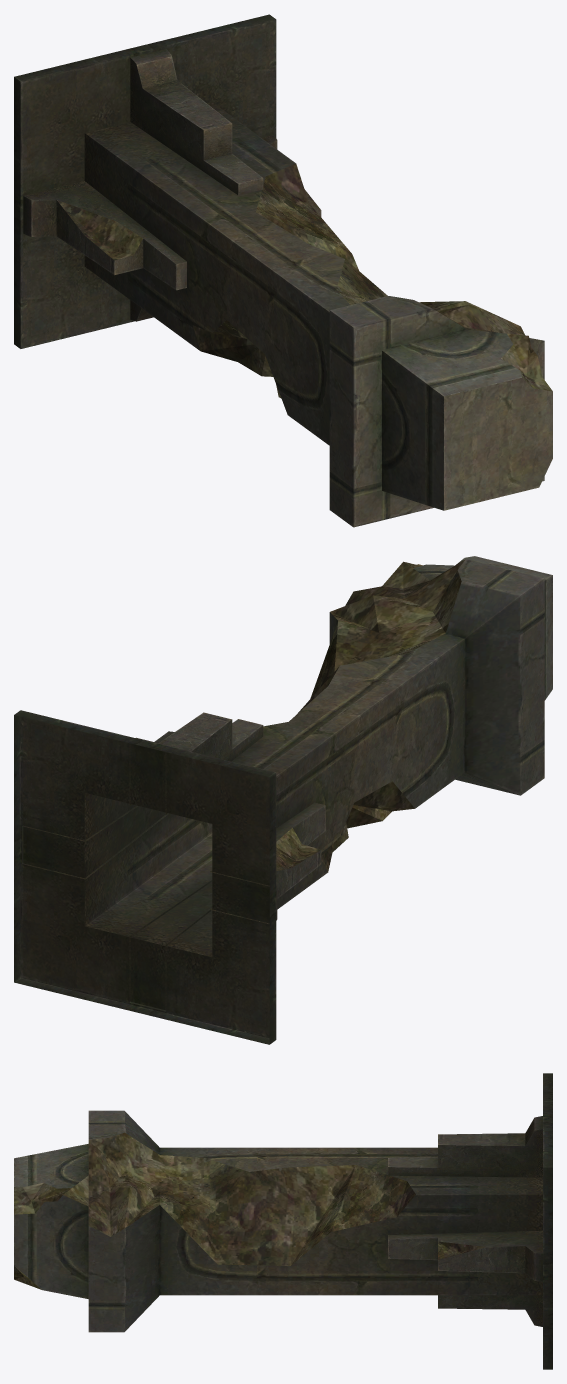
Rendered from dongfang_yewai_358_feixu02.obj.
The picture shows the model from 3 angles, top to bottom: view 1: azimuth 30°, elevation 25°; view 2: azimuth 150°, elevation 25°; view 3: azimuth 270°, elevation 25°; orthographic projection. The views are drawn at different scales.
Visible parts, largest first — view 1: dongfang_yewai_358_feixu02; view 2: dongfang_yewai_358_feixu02; view 3: dongfang_yewai_358_feixu02.
Boxes of the visible parts, x1,y1,x2,y2 form: dongfang_yewai_358_feixu02: (14,14,552,527); dongfang_yewai_358_feixu02: (14,556,552,1044); dongfang_yewai_358_feixu02: (14,1073,552,1369).
Bounding box in the file's own units: 110 × 110 × 266.
3 materials, 3 textured.
